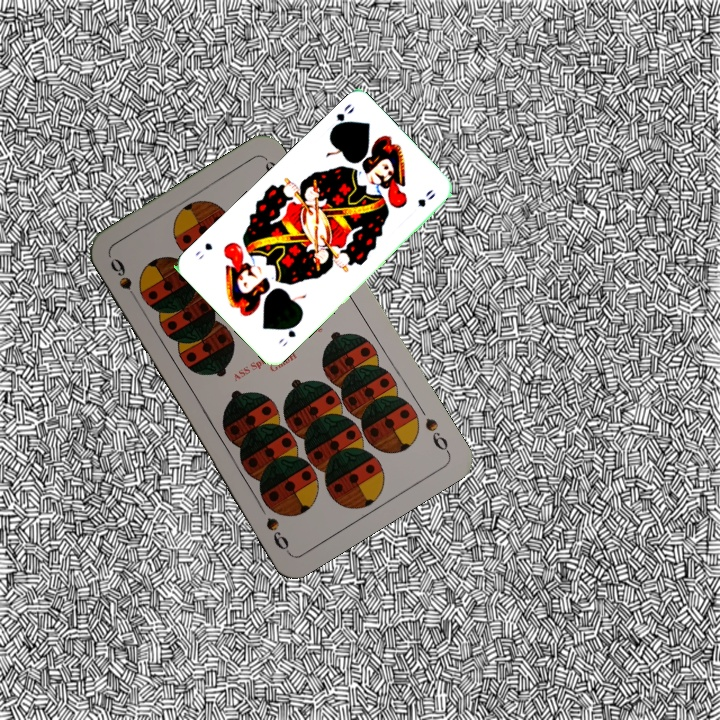GO: (326, 99, 357, 135), (274, 318, 302, 349)
S9: (106, 254, 142, 308), (420, 414, 453, 456)
